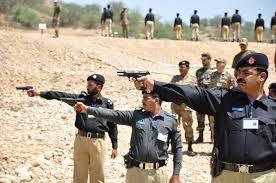gun: (114, 65, 156, 93), (58, 93, 88, 113), (13, 79, 35, 100)
uniform: (202, 74, 272, 178), (124, 102, 169, 174), (72, 88, 106, 182), (167, 71, 196, 144), (248, 10, 267, 43), (50, 3, 65, 40), (191, 12, 206, 43), (142, 8, 156, 39), (121, 5, 131, 40), (232, 11, 242, 41), (105, 6, 114, 39), (220, 12, 230, 41), (174, 14, 185, 40)
